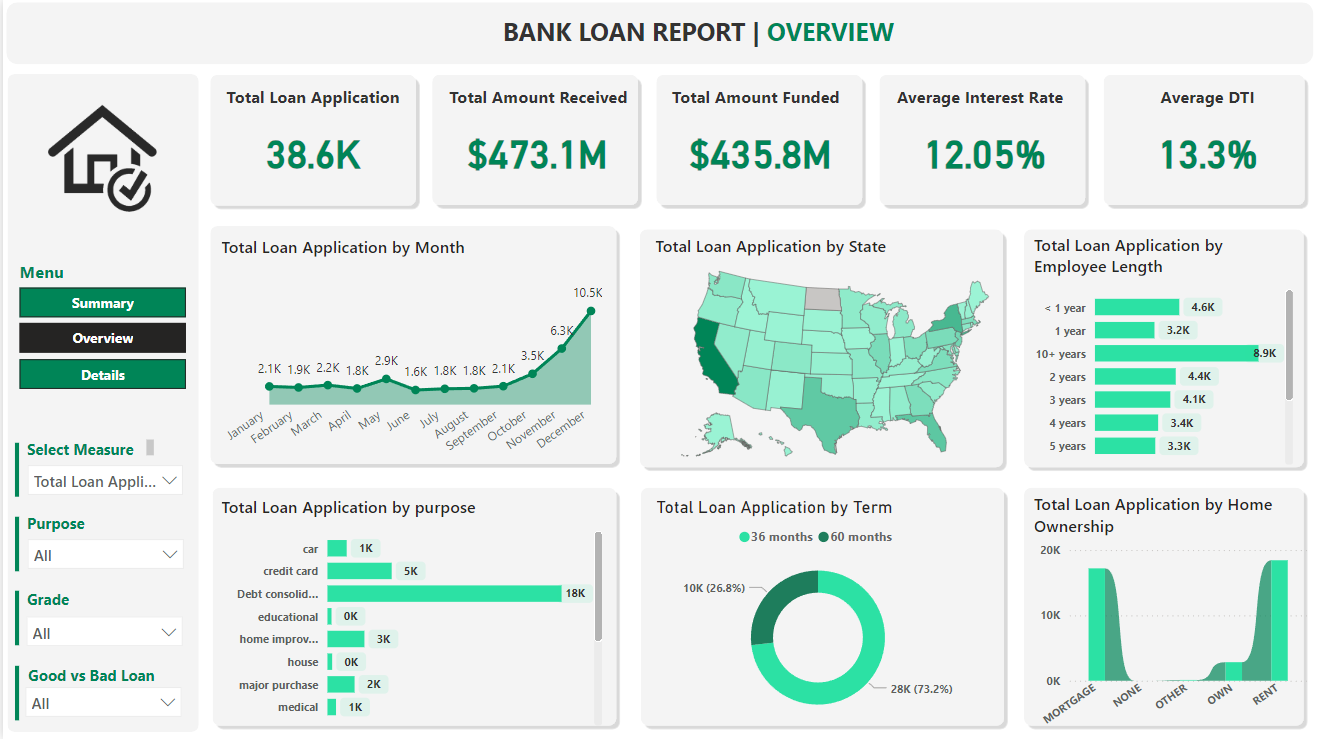

What the dashboard file says about the page in this screenshot:
{"tool":"powerbi","page":{"name":"Overview","canvas":[1280,720],"ordinal":1},"visuals":[{"type":"shape","box":[3.1,2.1,1272.9,60.4],"z":0},{"type":"shape","box":[4,71.9,186.3,640.9],"z":1000},{"type":"textbox","box":[365.6,8.3,622.9,53.1],"z":2000},{"type":"shape","box":[196.9,67.7,210.4,137.5],"z":3000},{"type":"shape","box":[413.4,68,210.5,137],"z":4000},{"type":"shape","box":[631.1,68,210.5,137],"z":5000},{"type":"shape","box":[848.7,68,210.5,137],"z":6000},{"type":"shape","box":[1066.3,68,206,137],"z":7000},{"type":"card","fields":{"Values":["BankLoan.total loan application"]},"box":[221.7,109.8,160,73.9],"z":8000},{"type":"textbox","box":[198.9,77.9,206.3,40],"z":9000},{"type":"textbox","box":[417.9,77.9,206.3,40],"z":10000},{"type":"textbox","box":[1069.5,77.9,206.3,40],"z":11000},{"type":"textbox","box":[630.5,77.9,206.3,40],"z":12000},{"type":"textbox","box":[848.4,77.9,206.3,40],"z":13000},{"type":"card","fields":{"Values":["BankLoan.Total Amount Recevied"]},"box":[439.4,109.8,160,73.9],"z":14000},{"type":"card","fields":{"Values":["BankLoan.Total Amount Funded"]},"box":[657.1,109.8,160,73.9],"z":15000},{"type":"card","fields":{"Values":["BankLoan.Average int rate"]},"box":[874.8,109.8,160,73.9],"z":16000},{"type":"card","fields":{"Values":["BankLoan.Average DTI"]},"box":[1092.5,109.8,160,73.9],"z":17000},{"type":"slicer","fields":{"Values":["BankLoan.Good vs Bad loans"]},"box":[11.5,659.4,171.9,53.1],"z":18000},{"type":"slicer","fields":{"Values":["BankLoan.grade"]},"box":[12.5,590.6,171.9,50],"z":19000},{"type":"slicer","fields":{"Values":["BankLoan.purpose"]},"box":[13.5,514.6,171.9,52.1],"z":20000},{"type":"textbox","box":[18.8,494.8,111.5,40.6],"z":21000},{"type":"textbox","box":[18.8,568.8,103.1,40.6],"z":22000},{"type":"textbox","box":[19.2,641.9,140.7,32.4],"z":23000},{"type":"shape","box":[4.5,502.9,18.8,53.1],"z":24000},{"type":"shape","box":[4.5,575.4,18.8,53.1],"z":25000},{"type":"shape","box":[4.5,647.9,18.8,53.1],"z":26000},{"type":"image","box":[33,91.2,126.4,127.5],"z":31000},{"type":"slicer","fields":{"Values":["Select Measure.Select Measure"]},"box":[14.3,442.9,171.4,51.6],"z":32000},{"type":"textbox","box":[18.8,422.9,133.3,26],"z":33000},{"type":"shape","box":[4.4,430.8,18.7,52.7],"z":34000},{"type":"shape","box":[196.7,215.4,405.5,241.8],"z":35000},{"type":"shape","box":[198.9,470.3,403.3,241.8],"z":36000},{"type":"shape","box":[615.4,218.7,363.7,241.8],"z":37000},{"type":"shape","box":[616.5,470.3,363.7,241.8],"z":38000},{"type":"shape","box":[989,218.7,282.4,241.8],"z":39000},{"type":"shape","box":[989,470.3,282.4,241.8],"z":40000},{"type":"areaChart","fields":{"Y":["BankLoan.total loan application"],"Category":["BankLoan.last_payment_date.Variation.Date Hierarchy.Month"]},"box":[207.4,229.5,381.1,231.6],"z":44000},{"type":"shapeMap","fields":{"Value":["BankLoan.total loan application"],"Category":["BankLoan.address_state"]},"box":[629.8,227.7,359.6,230.8],"z":45000},{"type":"donutChart","title":"Total Loan Application by Term","fields":{"Y":["BankLoan.total loan application"],"Category":["BankLoan.term"]},"box":[630.8,484,324,227.8],"z":46000},{"type":"barChart","fields":{"Y":["BankLoan.total loan application"],"Category":["BankLoan.emp_length"]},"box":[999.3,226.8,262.2,230.8],"z":47000},{"type":"barChart","fields":{"Y":["BankLoan.total loan application"],"Category":["BankLoan.purpose"]},"box":[207.6,483,380.7,228.8],"z":48000},{"type":"ribbonChart","fields":{"Y":["BankLoan.total loan application"],"Category":["BankLoan.home_ownership"]},"box":[999.3,479.9,276.4,235.9],"z":49000},{"type":"pageNavigator","title":"Menu","box":[15.6,254.2,162.5,125],"z":49001}]}

Visuals, with their boxes in screenshot pixels (x1, y1, x2, y2), scaled from the page's 1280x720 canvas onto the 1317x739 screenshot:
shape: region(3, 2, 1313, 64)
shape: region(4, 74, 196, 732)
textbox: region(376, 9, 1017, 63)
shape: region(203, 69, 419, 211)
shape: region(425, 70, 642, 210)
shape: region(649, 70, 866, 210)
shape: region(873, 70, 1090, 210)
shape: region(1097, 70, 1309, 210)
card - BankLoan.total loan application: region(228, 113, 393, 189)
textbox: region(205, 80, 417, 121)
textbox: region(430, 80, 642, 121)
textbox: region(1100, 80, 1313, 121)
textbox: region(649, 80, 861, 121)
textbox: region(873, 80, 1085, 121)
card - BankLoan.Total Amount Recevied: region(452, 113, 617, 189)
card - BankLoan.Total Amount Funded: region(676, 113, 841, 189)
card - BankLoan.Average int rate: region(900, 113, 1065, 189)
card - BankLoan.Average DTI: region(1124, 113, 1289, 189)
slicer - BankLoan.Good vs Bad loans: region(12, 677, 189, 731)
slicer - BankLoan.grade: region(13, 606, 190, 658)
slicer - BankLoan.purpose: region(14, 528, 191, 582)
textbox: region(19, 508, 134, 550)
textbox: region(19, 584, 125, 625)
textbox: region(20, 659, 165, 692)
shape: region(5, 516, 24, 571)
shape: region(5, 591, 24, 645)
shape: region(5, 665, 24, 719)
image: region(34, 94, 164, 224)
slicer - Select Measure.Select Measure: region(15, 455, 191, 508)
textbox: region(19, 434, 156, 461)
shape: region(5, 442, 24, 496)
shape: region(202, 221, 620, 469)
shape: region(205, 483, 620, 731)
shape: region(633, 224, 1007, 473)
shape: region(634, 483, 1009, 731)
shape: region(1018, 224, 1308, 473)
shape: region(1018, 483, 1308, 731)
areaChart - BankLoan.total loan application x BankLoan.last_payment_date.Variation.Date Hierarchy.Month: region(213, 236, 606, 473)
shapeMap - BankLoan.total loan application x BankLoan.address_state: region(648, 234, 1018, 471)
"Total Loan Application by Term" donutChart: region(649, 497, 982, 731)
barChart - BankLoan.total loan application x BankLoan.emp_length: region(1028, 233, 1298, 470)
barChart - BankLoan.total loan application x BankLoan.purpose: region(214, 496, 605, 731)
ribbonChart - BankLoan.total loan application x BankLoan.home_ownership: region(1028, 493, 1313, 735)
"Menu" pageNavigator: region(16, 261, 183, 389)
